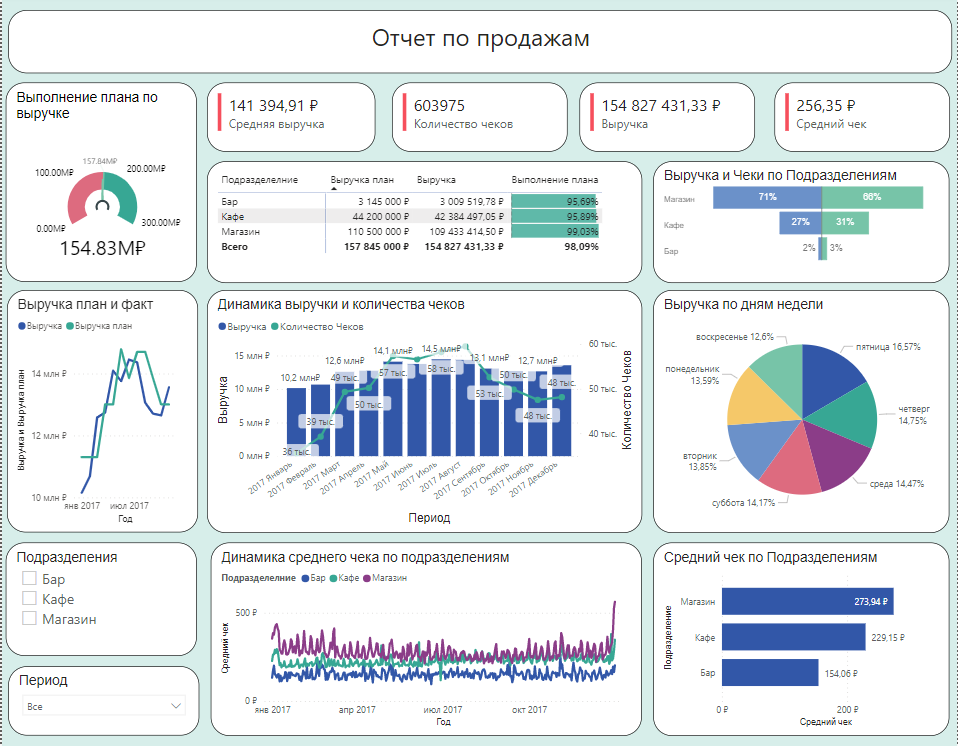

Layout of this report page (visuals, bound fields, positions):
{"tool":"powerbi","page":{"name":"Отчет продаж","canvas":[1280,1000],"ordinal":0},"visuals":[{"type":"TornadoChart1452517688218","title":"Выручка и Чеки по Подразделениям","fields":{"Category":["Лист1.Подразделение"],"Values":["Sum(Лист1.Выручка)","Sum(Лист1.Количество чеков)"]},"box":[873,215.7,397.1,163.3],"z":0},{"type":"Tachometer1474636471549","title":"Выполнение плана по выручке","fields":{"Y":["Sum(Данные.Выручка)"],"TargetValue":["Sum(План.Выручка план)"],"Range3StartValue":["Sum(План.Выручка план)"]},"box":[5.6,111.2,256.3,267.5],"z":1000},{"type":"multiRowCard","fields":{"Values":["#Меры.Средняя выручка"]},"box":[274.6,111.2,225.3,92.9],"z":2000},{"type":"multiRowCard","fields":{"Values":["Sum(Данные.Количество чеков)"]},"box":[522.4,111.2,235.2,92.9],"z":3000},{"type":"multiRowCard","fields":{"Values":["Sum(Данные.Выручка)"]},"box":[774.5,111.2,235.2,92.9],"z":4000},{"type":"multiRowCard","fields":{"Values":["#Меры.Средний чек"]},"box":[1035,111.2,235.2,92.9],"z":5000},{"type":"lineClusteredColumnComboChart","title":"Динамика выручки и количества чеков","fields":{"Y":["#Меры.Выручка"],"Y2":["#Меры.Чеки"],"Category":["Календарь.Date.Изменение.Иерархия дат.Год","Календарь.Date.Изменение.Иерархия дат.Месяц"]},"box":[274.6,388.9,583,325.3],"z":6000},{"type":"clusteredBarChart","title":"Средний чек по Подразделениям","fields":{"Y":["#Меры.Средний чек"],"Category":["Данные.Подразделение"]},"box":[873,726.9,397.1,259.1],"z":7000},{"type":"pivotTable","fields":{"Rows":["Подразделения.Подразделелние"],"Values":["Sum(План.Выручка план)","Sum(Данные.Выручка)","#Меры.Выполнение плана"]},"box":[274.6,215.7,583,163.3],"z":8000},{"type":"lineChart","title":"Динамика среднего чека по подразделениям","fields":{"Y":["#Меры.Средний чек"],"Category":["Календарь.Date.Изменение.Иерархия дат.Год","Календарь.Date.Изменение.Иерархия дат.Квартал","Календарь.Date.Изменение.Иерархия дат.Месяц","Календарь.Date.Изменение.Иерархия дат.День"],"Series":["Подразделения.Подразделелние"]},"box":[280.2,726.9,577.3,259.1],"z":9000},{"type":"pieChart","title":"Выручка по дням недели","fields":{"Category":["Календарь.День недели"],"Y":["#Меры.Выручка"]},"box":[873,388.9,397.1,325.3],"z":10000},{"type":"slicer","title":"Период","fields":{"Values":["Календарь.Date.Изменение.Иерархия дат.Год","Календарь.Date.Изменение.Иерархия дат.Месяц"]},"box":[8.4,892.8,256.3,92.9],"z":11000},{"type":"slicer","title":"Подразделения","fields":{"Values":["Подразделения.Подразделелние"]},"box":[5.6,726.6,256.3,152.1],"z":12000},{"type":"textbox","box":[8.4,14.1,1264.5,84.5],"z":13000},{"type":"lineChart","title":"Выручка план и факт","fields":{"Y":["Sum(Данные.Выручка)","Sum(План.Выручка план)"],"Category":["Календарь.Date.Изменение.Иерархия дат.Год","Календарь.Date.Изменение.Иерархия дат.Месяц"]},"box":[6,389,256,325],"z":14000}]}

Visuals, with their boxes in screenshot pixels (x1, y1, x2, y2), scaled from the page's 1280x1000 canvas onto the 958x746 screenshot:
"Выручка и Чеки по Подразделениям" TornadoChart1452517688218: (653, 161, 951, 283)
"Выполнение плана по выручке" Tachometer1474636471549: (4, 83, 196, 283)
multiRowCard - #Меры.Средняя выручка: (206, 83, 374, 152)
multiRowCard - Sum(Данные.Количество чеков): (391, 83, 567, 152)
multiRowCard - Sum(Данные.Выручка): (580, 83, 756, 152)
multiRowCard - #Меры.Средний чек: (775, 83, 951, 152)
"Динамика выручки и количества чеков" lineClusteredColumnComboChart: (206, 290, 642, 533)
"Средний чек по Подразделениям" clusteredBarChart: (653, 542, 951, 736)
pivotTable - Подразделения.Подразделелние x Sum(План.Выручка план): (206, 161, 642, 283)
"Динамика среднего чека по подразделениям" lineChart: (210, 542, 642, 736)
"Выручка по дням недели" pieChart: (653, 290, 951, 533)
"Период" slicer: (6, 666, 198, 735)
"Подразделения" slicer: (4, 542, 196, 656)
textbox: (6, 11, 953, 74)
"Выручка план и факт" lineChart: (4, 290, 196, 533)
